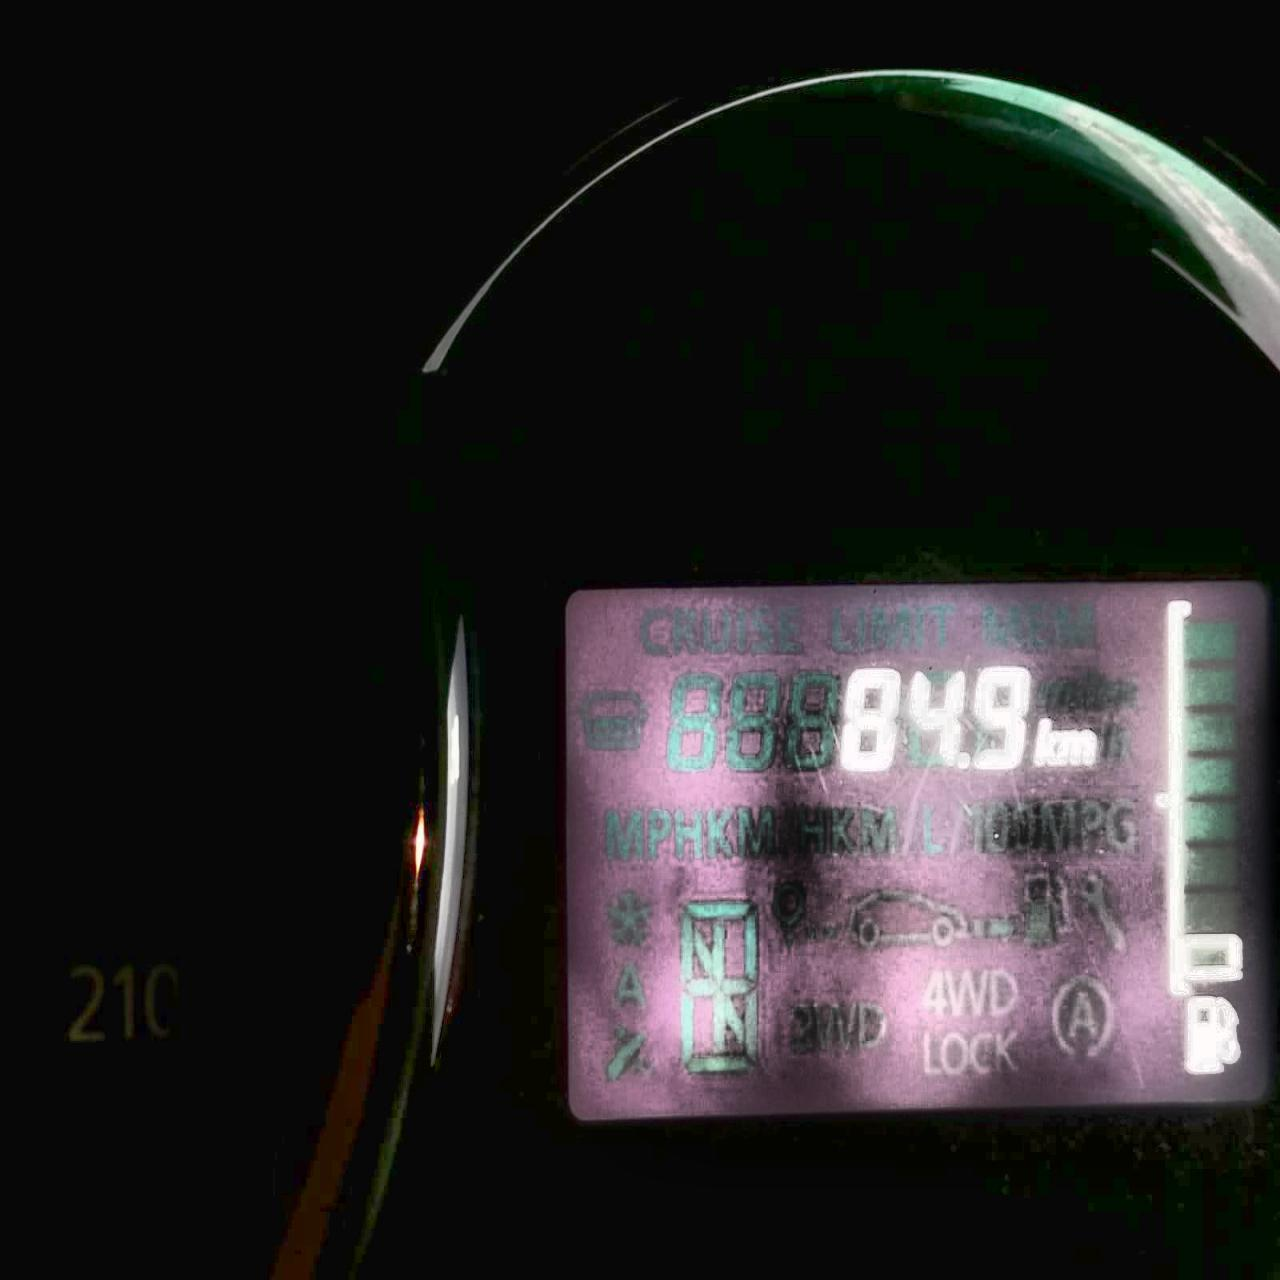-: (955, 750, 971, 770)
4: (906, 668, 966, 768)
8: (837, 666, 901, 772)
9: (971, 663, 1032, 771)
X: (1058, 727, 1096, 765), (1032, 715, 1058, 768)
odometer: (556, 570, 1276, 1130)
